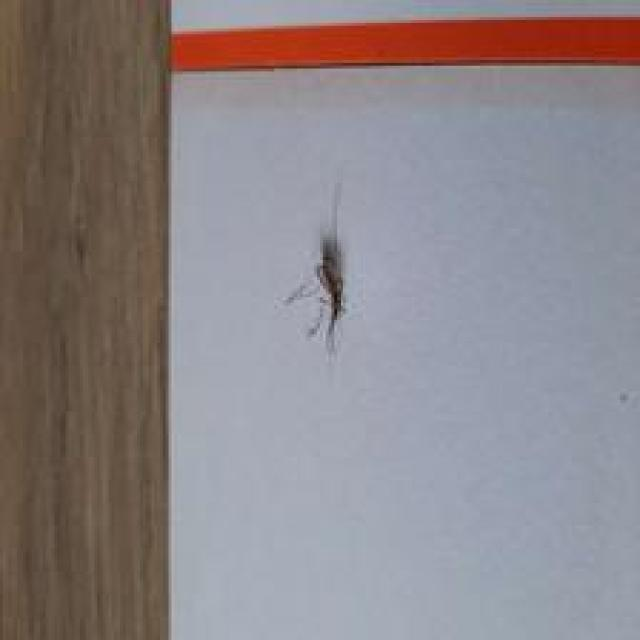Culex: (283, 180, 351, 357)
